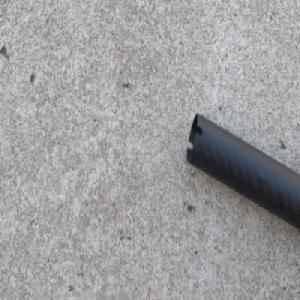LuggagePart: (185, 111, 300, 237)
